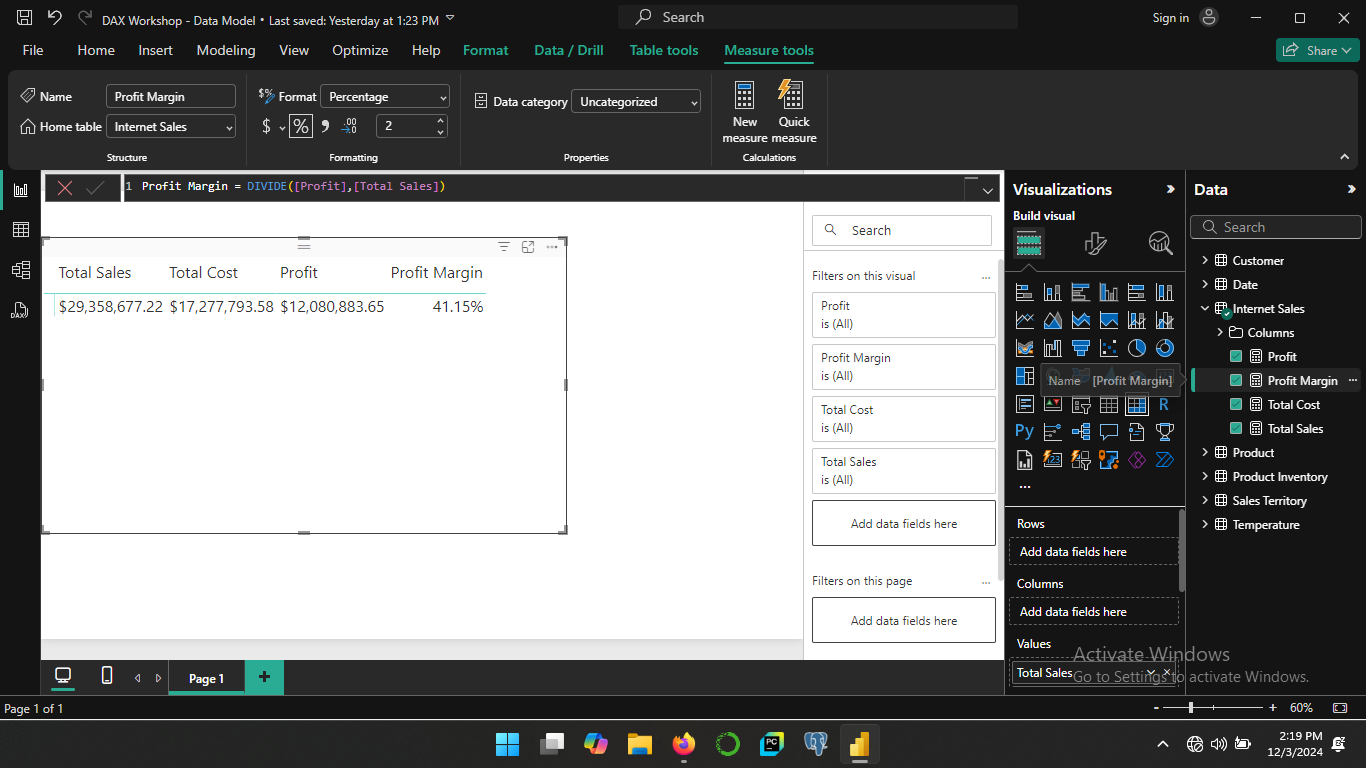

The page's visual inventory and layout, read from the dashboard file:
{"tool":"powerbi","page":{"name":"Page 1","canvas":[1280,720],"ordinal":0},"visuals":[{"type":"pivotTable","fields":{"Values":["Internet Sales.Total Sales","Internet Sales.Total Cost","Internet Sales.Profit","Internet Sales.Profit Margin","Internet Sales.Total Sales(all countries excluding na)"],"Rows":["Sales Territory.Sales Territory Country"]},"box":[0,77.3,883.6,465.3],"z":1}]}

Visuals, with their boxes on the page's 1280x720 design canvas (x1, y1, x2, y2). These are canvas units, not pixel positions in the 1366x768 screenshot, which may show the page scaled, cropped or inside an application window:
pivotTable - Internet Sales.Total Sales x Internet Sales.Total Cost: [left=0, top=77, right=884, bottom=543]
